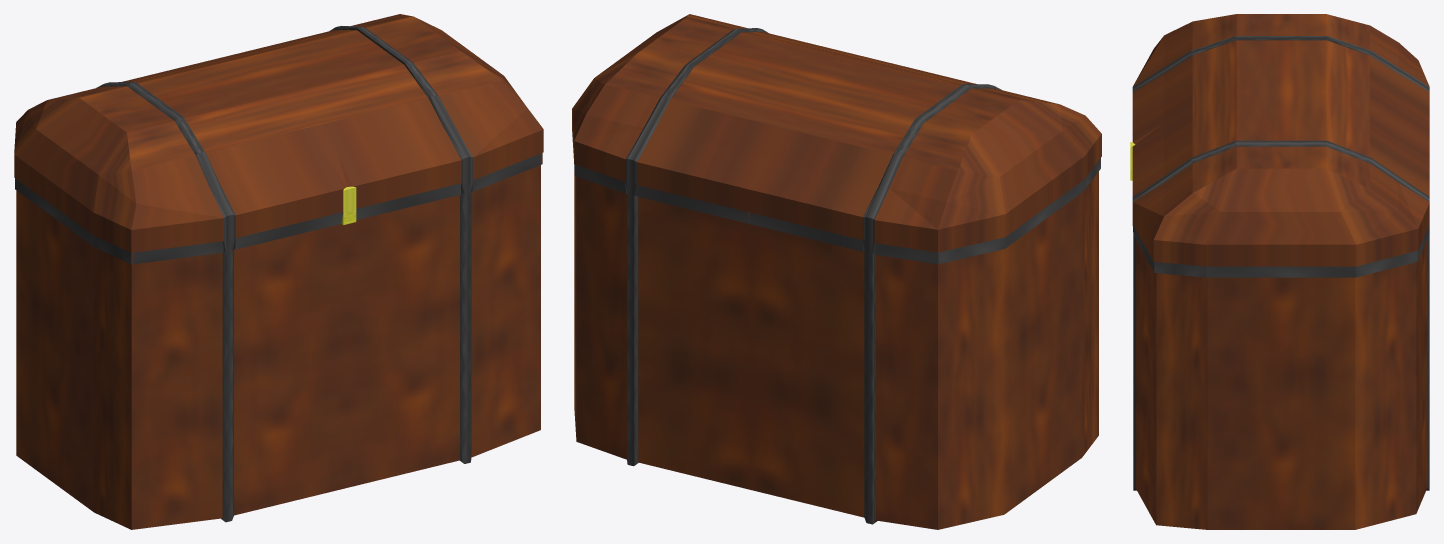
The model's file is chest.obj.
3 renders of one model, left to right at view 1: azimuth 30°, elevation 25°; view 2: azimuth 150°, elevation 25°; view 3: azimuth 270°, elevation 25°, orthographic. The views are drawn at different scales.
Parts seen in each view (by area): view 1: Chest; view 2: Chest; view 3: Chest.
Part boxes in pixels (x1,y1,x2,y2): Chest: (14, 14, 543, 529); Chest: (572, 14, 1101, 529); Chest: (1130, 14, 1429, 529).
Size of the model in its own units: 3.26 by 2.61 by 2.05.
